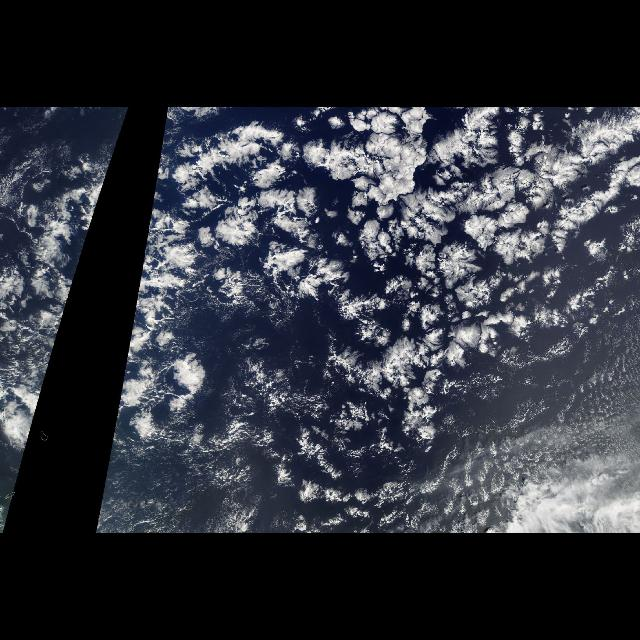Flower: (170, 107, 638, 399)
Sugar: (430, 337, 640, 533), (113, 435, 290, 533)
